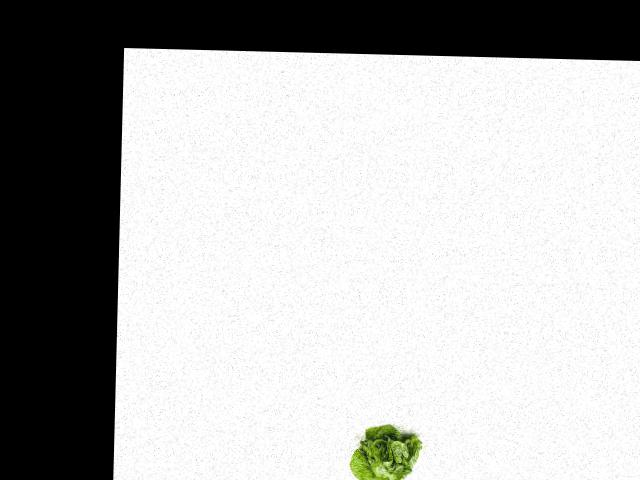lettuce: (348, 419, 424, 480)
